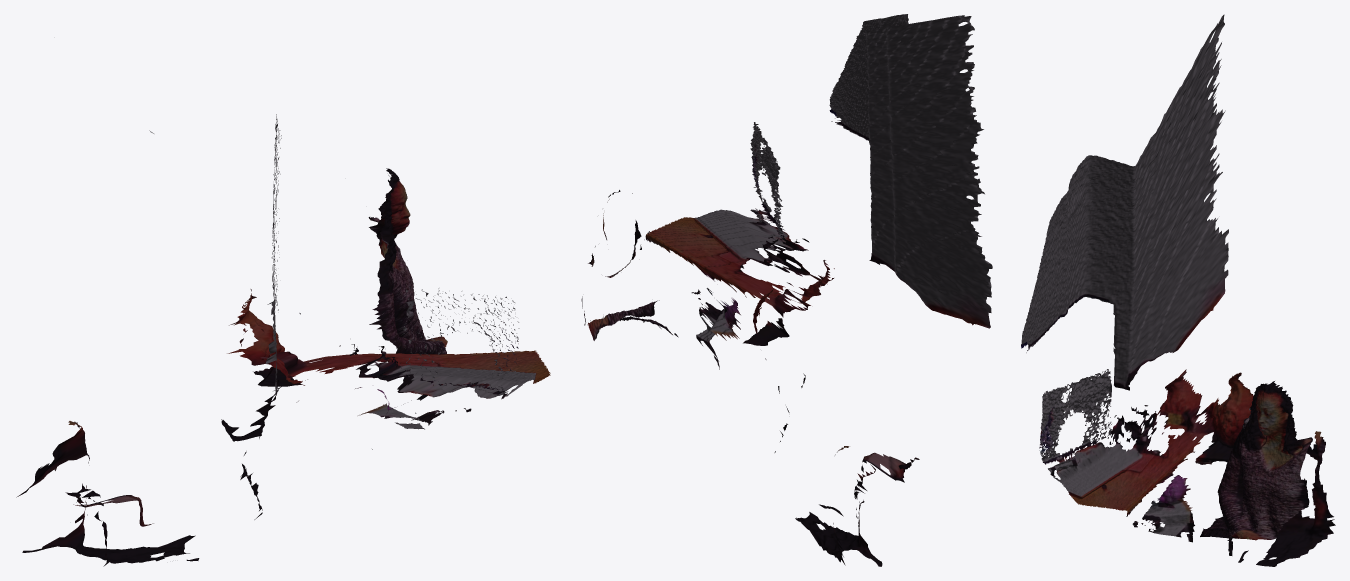
Rendered from 1frametest.gltf.
3 renders of one model, left to right at view 1: azimuth 30°, elevation 25°; view 2: azimuth 150°, elevation 25°; view 3: azimuth 270°, elevation 25°, orthographic. The views are drawn at different scales.
Parts seen in each view (by area): view 1: Default; view 2: Default; view 3: Default.
Part boxes in pixels (x1,y1,x2,y2): Default: [16, 114, 550, 566]; Default: [581, 14, 992, 566]; Default: [1021, 14, 1335, 566].
Size of the model in its own units: 0.7309 by 0.9171 by 0.5312.
Materials: 1 (1 with a texture image).
